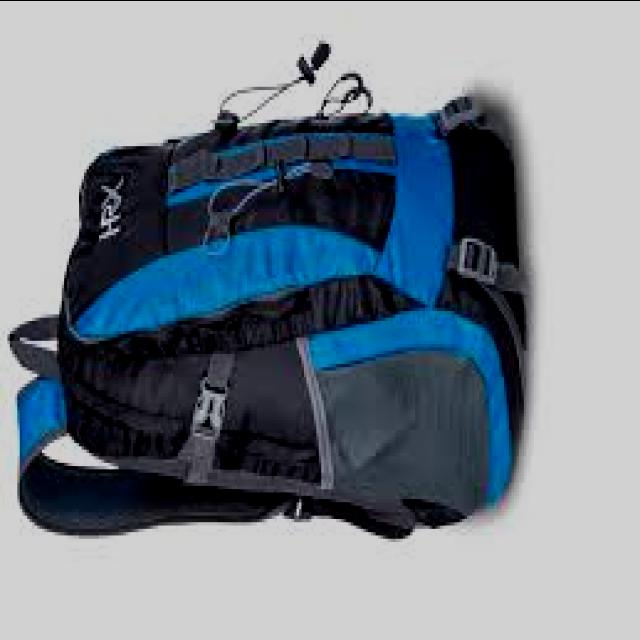backpack: (6, 44, 528, 542)
